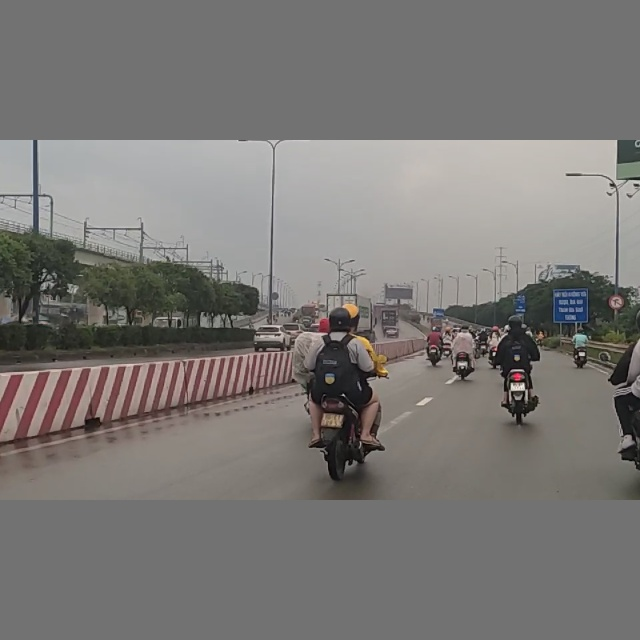P.123b: (608, 293, 625, 309)
